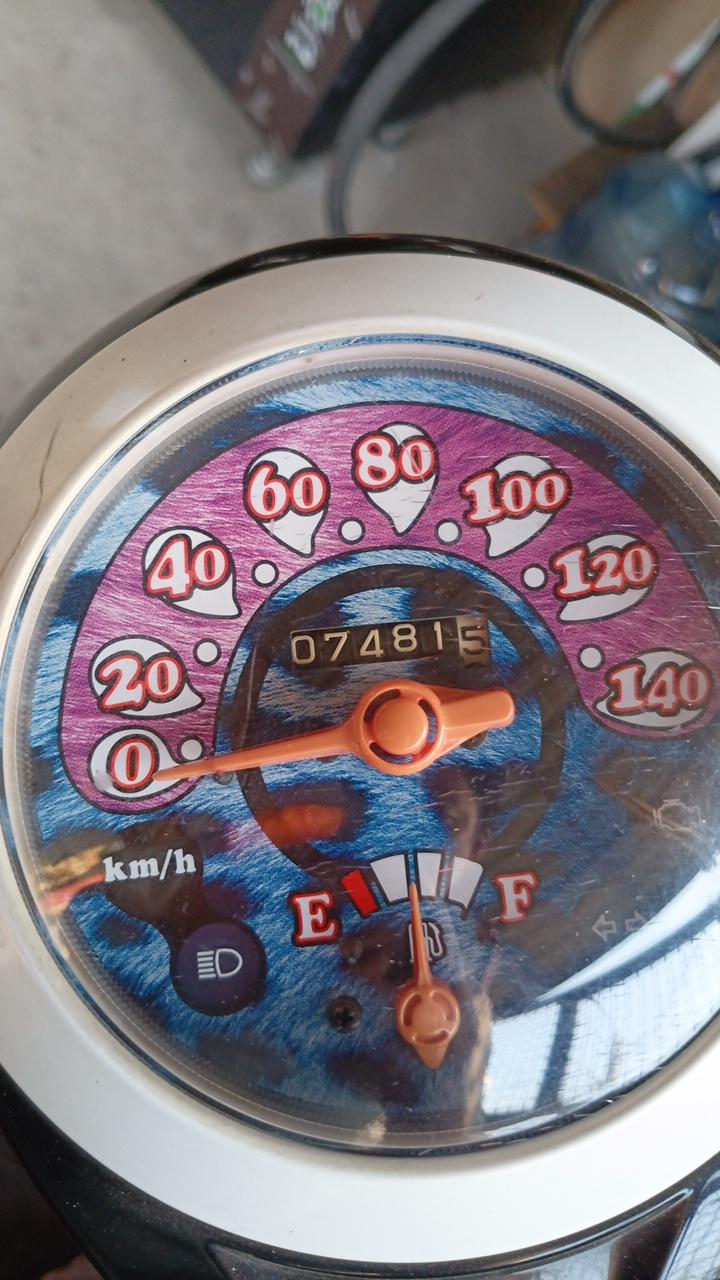0: (291, 634, 317, 665)
1: (432, 621, 444, 651)
4: (358, 627, 385, 658)
5: (460, 623, 487, 656)
7: (323, 631, 349, 664)
8: (391, 623, 418, 653)
odometer: (287, 609, 494, 676)
